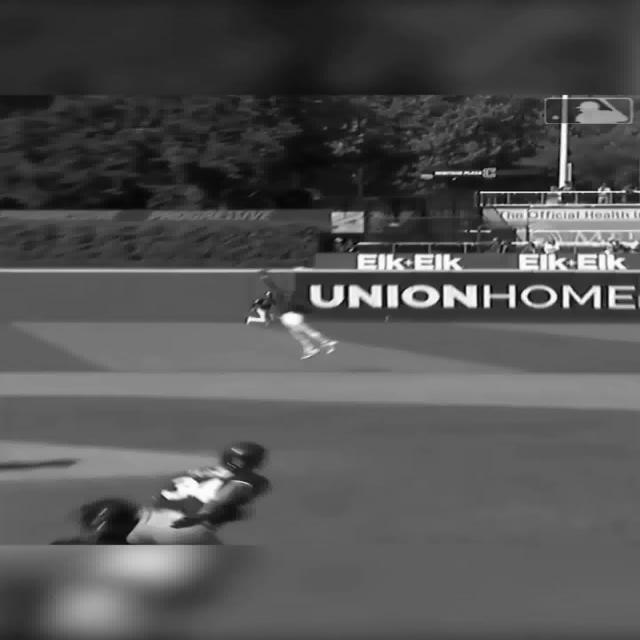shoe: (299, 348, 319, 360), (323, 340, 338, 354)
